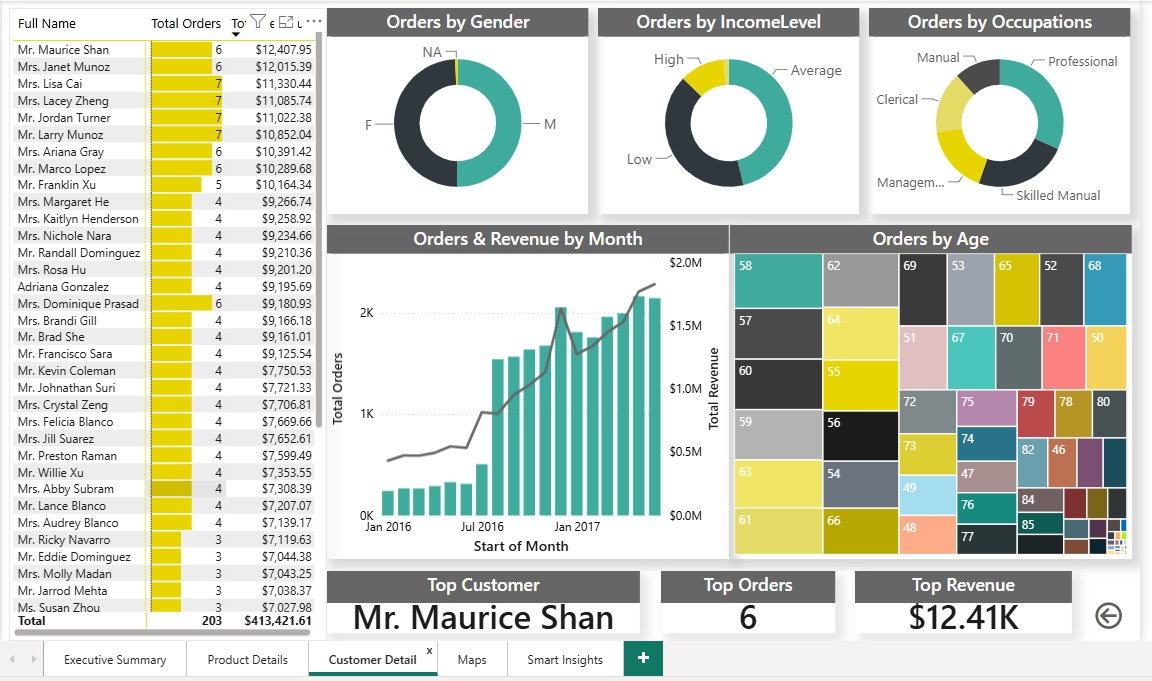

The dashboard page shown, as its layout file describes it:
{"tool":"powerbi","page":{"name":"Customer Detail","canvas":[1280,720],"ordinal":2},"visuals":[{"type":"pivotTable","fields":{"Values":["Sales Data.Total Orders","Sales Data.Total Revenue"],"Rows":["Customers_lookups.Full Name"]},"box":[7.9,7.9,357.8,712.1],"z":0},{"type":"donutChart","title":"Orders by Gender","fields":{"Y":["Sales Data.Total Orders"],"Category":["Customers_lookups.Gender"]},"box":[365.6,7.9,294.4,231.8],"z":0,"group":"g1"},{"type":"card","title":"Top Customer","fields":{"Values":["Min(Customers_lookups.Full Name)"]},"box":[365.6,641.2,351.8,69.8],"z":0,"group":"g2"},{"type":"donutChart","title":"Orders by IncomeLevel","fields":{"Y":["Sales Data.Total Orders"],"Category":["Customers_lookups.Income Level"]},"box":[670.7,7.9,294.4,231.8],"z":1000,"group":"g1"},{"type":"lineClusteredColumnComboChart","title":"Orders & Revenue by Month","fields":{"Category":["Calendar_lookups.Start of Month"],"Y":["Sales Data.Total Orders"],"Y2":["Sales Data.Total Revenue"]},"box":[365.6,252,452.2,375.8],"z":1000},{"type":"card","title":"Top Revenue","fields":{"Values":["Sales Data.Total Revenue"]},"box":[959.9,641.2,243.9,69.8],"z":1000,"group":"g2"},{"type":"group","id":"g1","title":"Donut chart","box":[365.6,7.9,904.5,231.8],"z":2000},{"type":"donutChart","title":"Orders by Occupations","fields":{"Y":["Sales Data.Total Orders"],"Category":["Customers_lookups.Occupation"]},"box":[975.7,7.9,294.4,231.8],"z":2000,"group":"g1"},{"type":"card","title":"Top Orders","fields":{"Values":["Sales Data.Total Orders"]},"box":[741.2,641.2,196.2,69.8],"z":2000,"group":"g2"},{"type":"treemap","title":"Orders by Age","fields":{"Values":["Sales Data.Total Orders"],"Group":["Customers_lookups.Age"]},"box":[818.8,251.7,451.6,375.7],"z":3000},{"type":"actionButton","box":[1225.3,671.1,45.8,39.7],"z":4000},{"type":"group","id":"g2","title":"Cards","box":[365.6,641.2,838.1,69.8],"z":5000}]}

Visuals, with their boxes on the page's 1280x720 design canvas (x1, y1, x2, y2). These are canvas units, not pixel positions in the 1152x681 screenshot, which may show the page scaled, cropped or inside an application window:
pivotTable - Sales Data.Total Orders x Sales Data.Total Revenue: select_region(8, 8, 366, 720)
"Orders by Gender" donutChart: select_region(366, 8, 660, 240)
"Top Customer" card: select_region(366, 641, 717, 711)
"Orders by IncomeLevel" donutChart: select_region(671, 8, 965, 240)
"Orders & Revenue by Month" lineClusteredColumnComboChart: select_region(366, 252, 818, 628)
"Top Revenue" card: select_region(960, 641, 1204, 711)
"Donut chart" group: select_region(366, 8, 1270, 240)
"Orders by Occupations" donutChart: select_region(976, 8, 1270, 240)
"Top Orders" card: select_region(741, 641, 937, 711)
"Orders by Age" treemap: select_region(819, 252, 1270, 627)
actionButton: select_region(1225, 671, 1271, 711)
"Cards" group: select_region(366, 641, 1204, 711)
